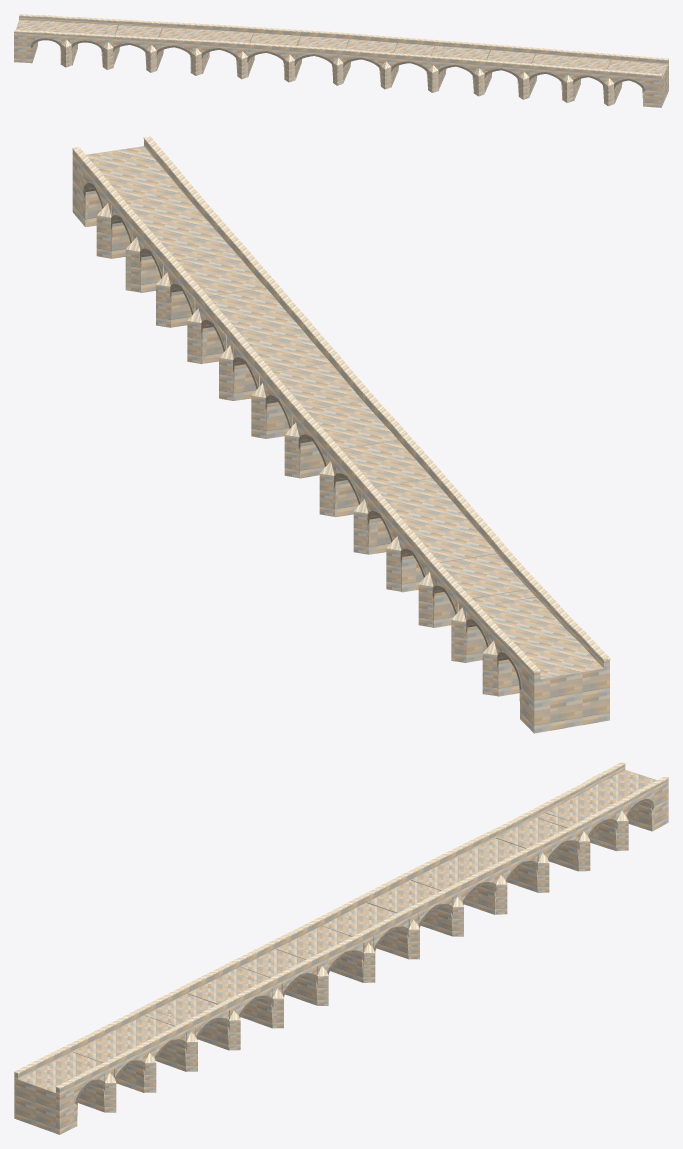
Rendered from clopton.glb.
The picture shows the model from 3 angles, top to bottom: view 1: azimuth 30°, elevation 25°; view 2: azimuth 150°, elevation 25°; view 3: azimuth 270°, elevation 25°; orthographic projection. The views are drawn at different scales.
Visible parts, largest first — view 1: Pier, CutwaterCap, Vault; view 2: Pier, CutwaterCap, Vault; view 3: Pier, CutwaterCap, Vault.
Boxes of the visible parts, box(x1,y1,x2,y2) form: Pier: box(14, 16, 668, 107); CutwaterCap: box(14, 14, 668, 85); Vault: box(30, 38, 645, 91); Pier: box(72, 139, 609, 733); CutwaterCap: box(72, 136, 610, 672); Vault: box(83, 183, 521, 689); Pier: box(14, 765, 668, 1134); CutwaterCap: box(14, 762, 668, 1088); Vault: box(75, 799, 654, 1104).
Size of the model in its own units: 116 by 7.98 by 97.75.
Materials: 3 (3 with a texture image).
